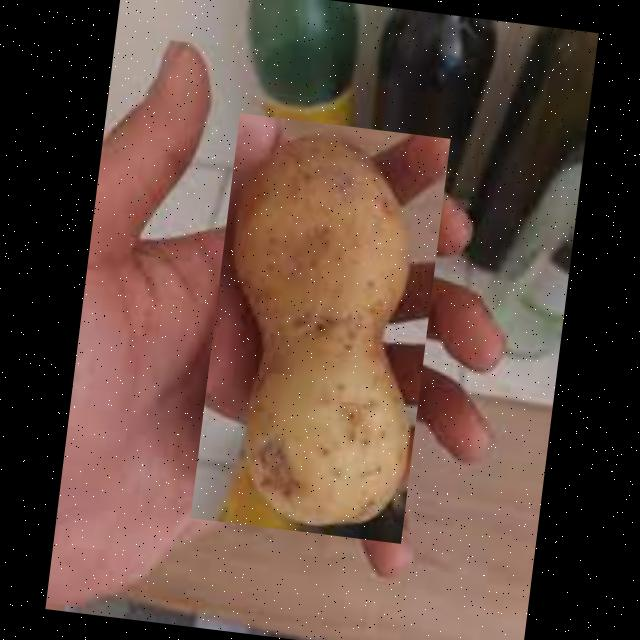Damaged potato: (189, 112, 449, 542)
